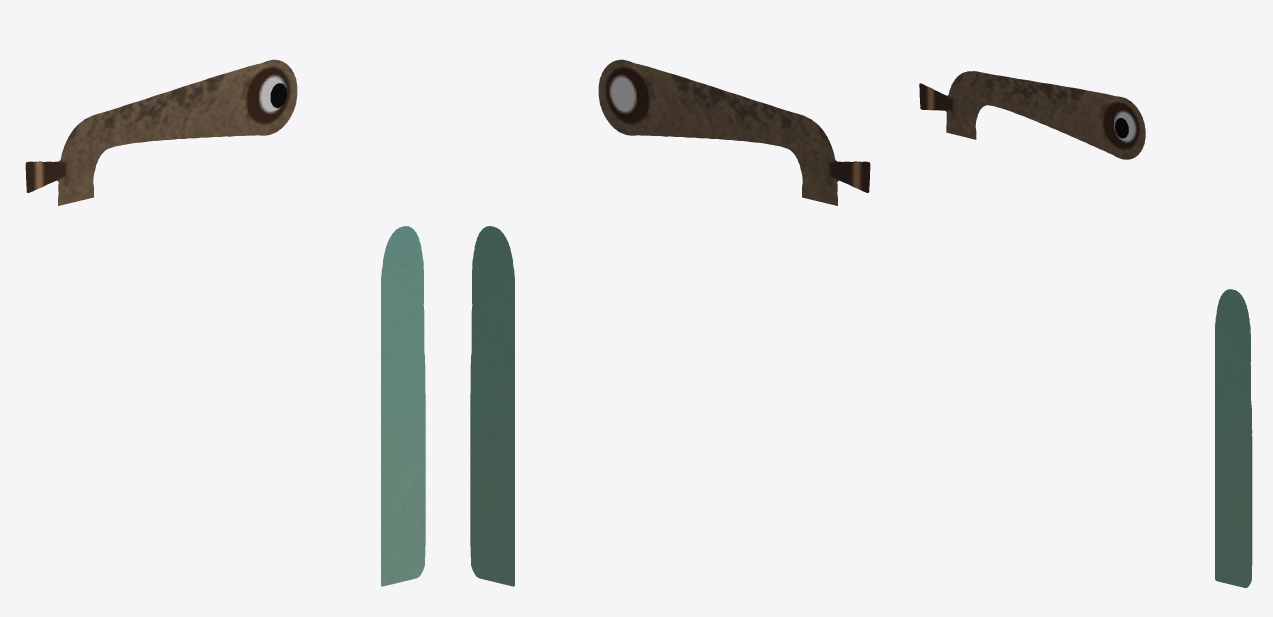
The model's file is Mariner_Catalejo.fbx.
3 renders of one model, left to right at view 1: azimuth 30°, elevation 25°; view 2: azimuth 150°, elevation 25°; view 3: azimuth 330°, elevation 25°, orthographic. The views are drawn at different scales.
Parts seen in each view (by area): view 1: Marinero_Catalejo; view 2: Marinero_Catalejo; view 3: Marinero_Catalejo.
Boxes of the visible parts, <box> form: Marinero_Catalejo: <box>25,59,425,586</box>; Marinero_Catalejo: <box>470,59,870,586</box>; Marinero_Catalejo: <box>919,71,1252,587</box>.
Size of the model in its own units: 767 by 1059 by 15.42.
